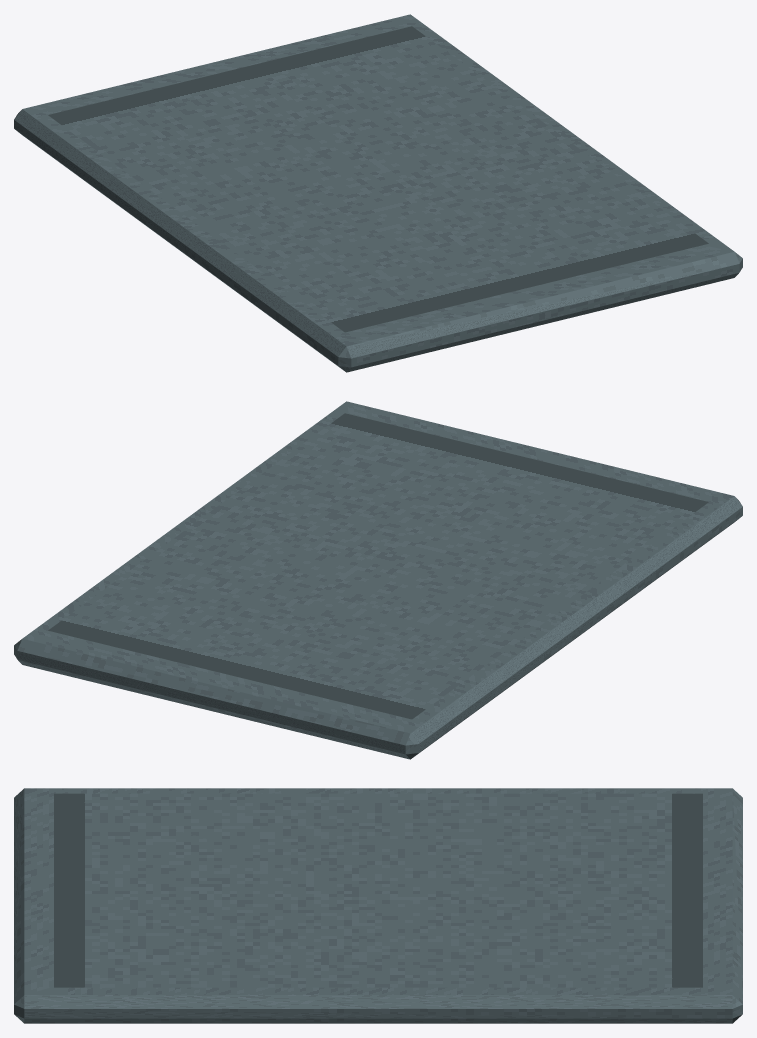
The model's file is bandana.glb.
3 renders of one model, top to bottom at view 1: azimuth 30°, elevation 25°; view 2: azimuth 150°, elevation 25°; view 3: azimuth 270°, elevation 25°, orthographic. The views are drawn at different scales.
Parts seen in each view (by area): view 1: block_hem or woven pattern, block_folded textile; view 2: block_hem or woven pattern, block_folded textile; view 3: block_hem or woven pattern, block_folded textile.
Boxes of the visible parts, left/top/right/bottom form: block_hem or woven pattern: left=48, top=26, right=708, bottom=332; block_folded textile: left=14, top=14, right=742, bottom=372; block_hem or woven pattern: left=48, top=413, right=708, bottom=719; block_folded textile: left=14, top=401, right=742, bottom=759; block_hem or woven pattern: left=54, top=793, right=702, bottom=987; block_folded textile: left=14, top=788, right=742, bottom=1023.
Bounding box in the file's own units: 0.21 × 0.0135 × 0.3.
Materials: 1 (1 with a texture image).
